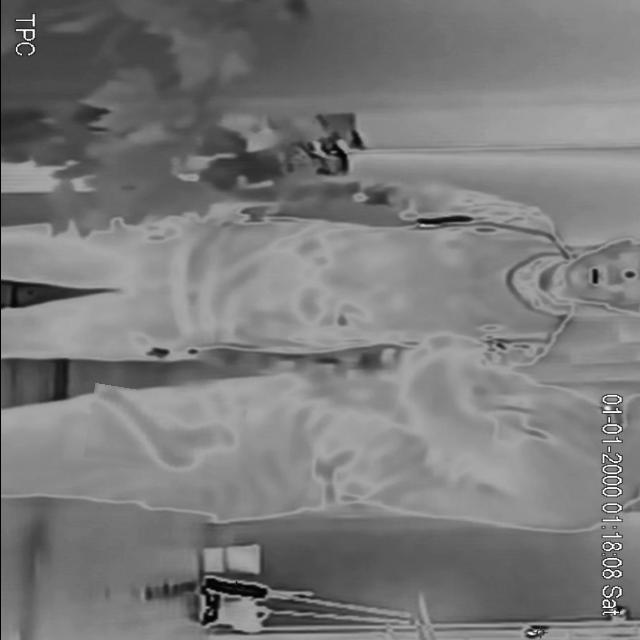Weapon: (85, 389, 243, 476)
